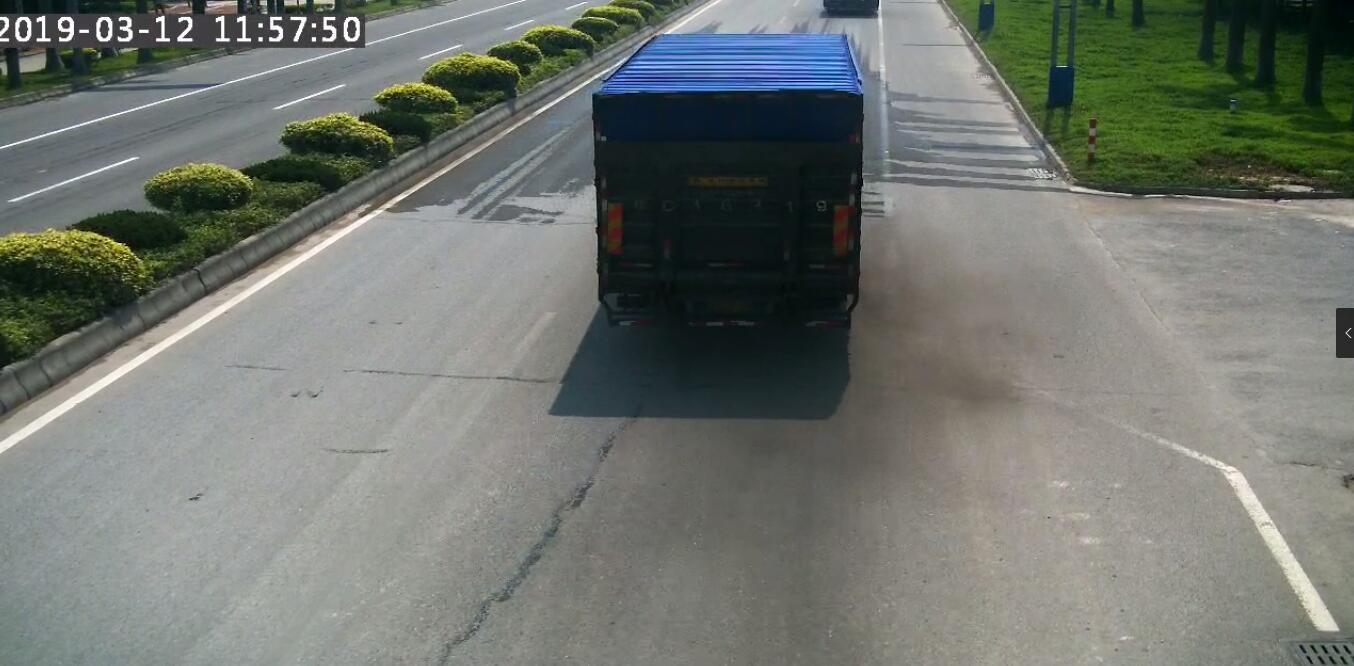yanwu: (859, 229, 969, 406)
